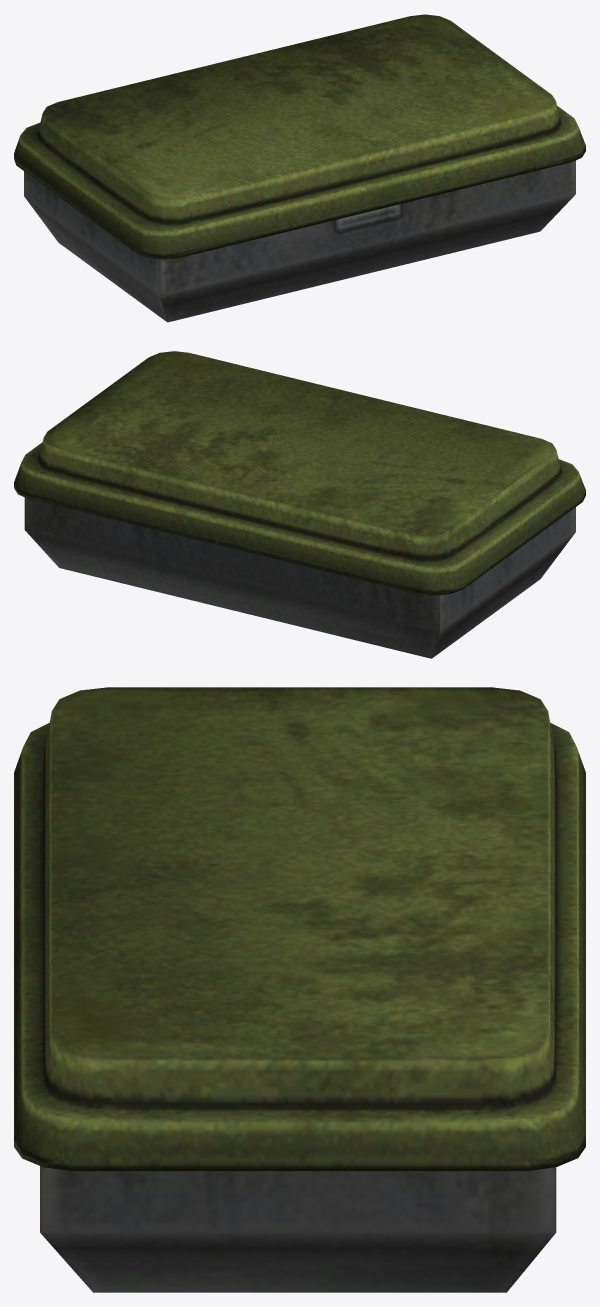
The model's file is container.dae.
The picture shows the model from 3 angles, top to bottom: view 1: azimuth 30°, elevation 25°; view 2: azimuth 150°, elevation 25°; view 3: azimuth 270°, elevation 25°; orthographic projection. The views are drawn at different scales.
Parts seen in each view (by area): view 1: plastic_container; view 2: plastic_container; view 3: plastic_container.
Boxes of the visible parts, bbox=[...] form: plastic_container: bbox=[14, 14, 585, 322]; plastic_container: bbox=[14, 351, 585, 658]; plastic_container: bbox=[14, 687, 585, 1292].
Bounding box in the file's own units: 0.6113 × 0.1703 × 0.3585.
